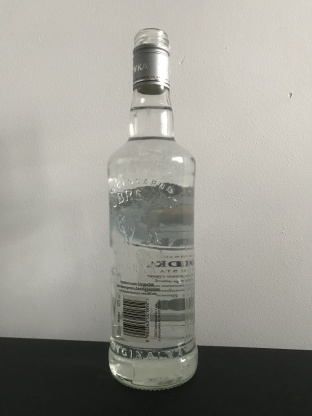nakretka: (130, 25, 172, 95)
